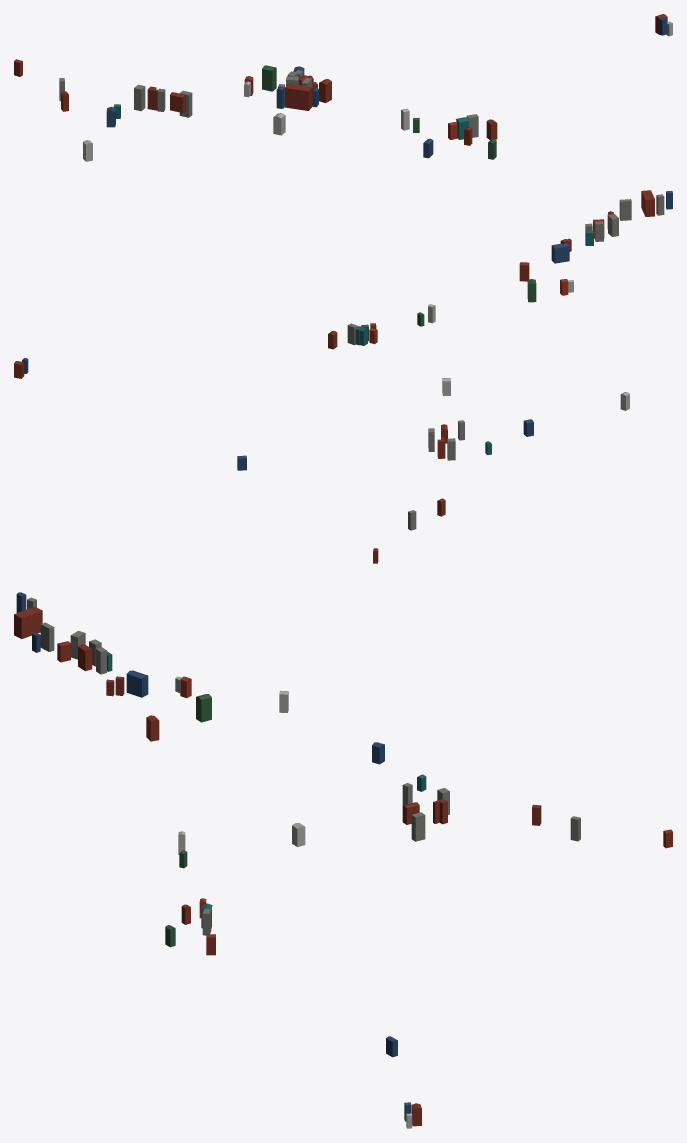
Rendered from near-15-27367-14865.01c59da3.glb.
3 views of the same model, one above another, from view 1: azimuth 30°, elevation 25°; view 2: azimuth 150°, elevation 25°; view 3: azimuth 270°, elevation 25° (orthographic). The views are drawn at different scales.
Size of the model in its own units: 766 by 308 by 628.
